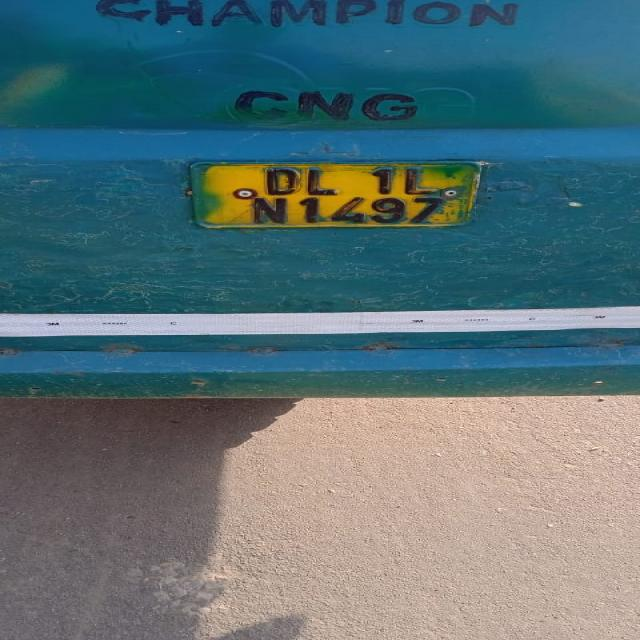License-plate: (198, 160, 482, 231)
